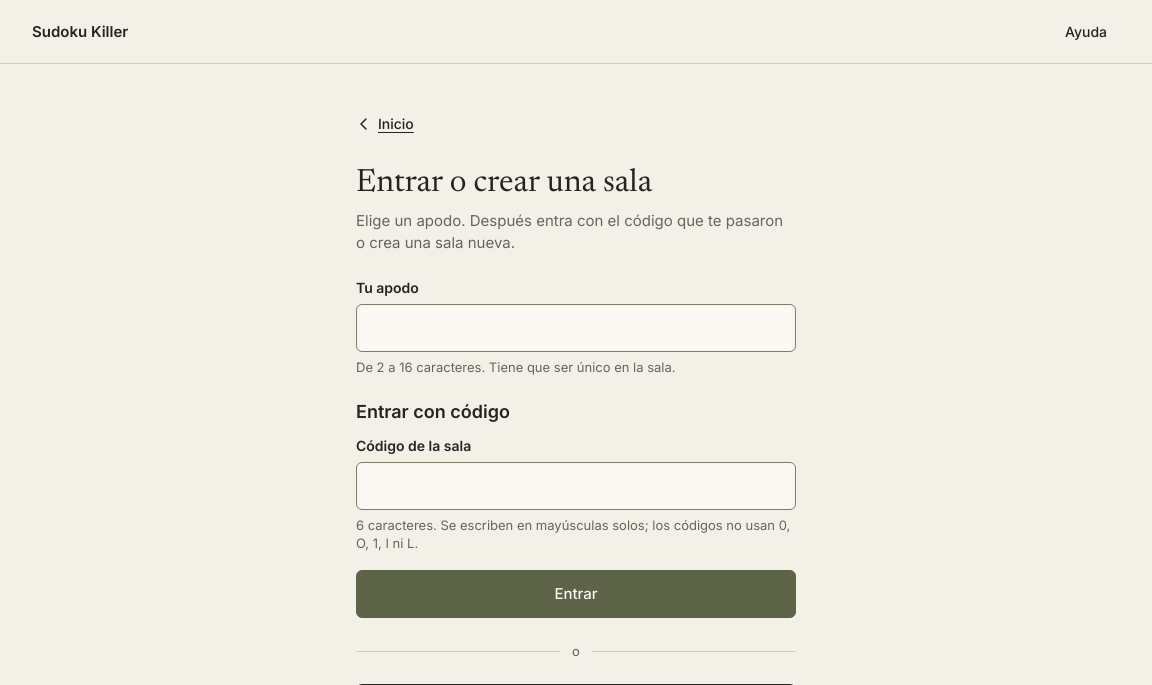
Scenario: F10e Entrar o crear (pantallas.md §1.2) › rejects characters outside the alphabet with an inline note and writes in upper case
In the field labelled "Código de la sala": (576, 486) [356,462,796,510], type "hpq6o"
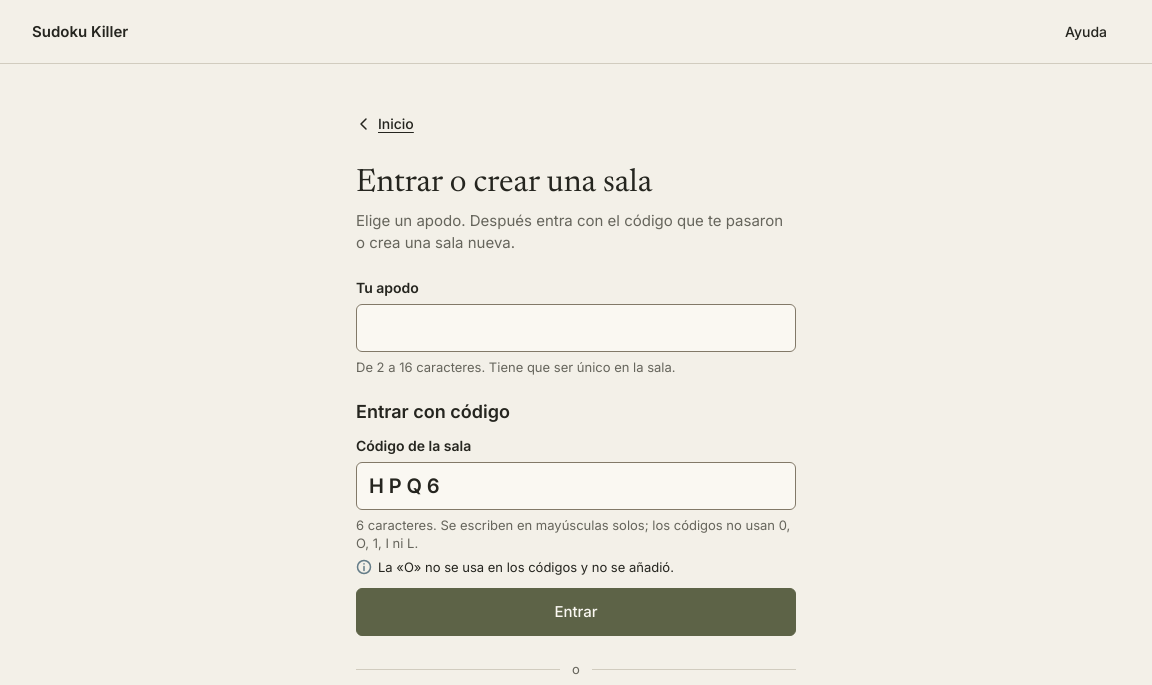
Result: the field labelled "Código de la sala" holds "HPQ6" at [356,462,796,510]
Result: the text "La «O» no se usa en los códigos y no se añadió." is shown at [378,558,674,576]
